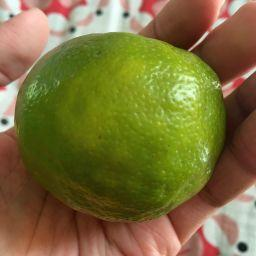Unripe: (15, 32, 226, 223)
